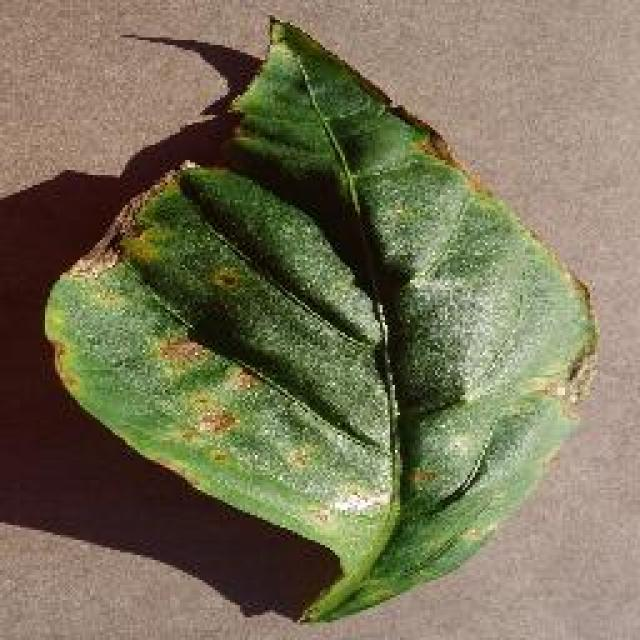Chilli_Bacterial_Spot: (40, 13, 602, 625), (147, 328, 265, 468), (152, 332, 210, 372), (523, 370, 575, 405), (190, 405, 240, 440), (278, 437, 318, 475), (402, 460, 440, 490), (208, 263, 242, 295), (225, 365, 260, 395)
